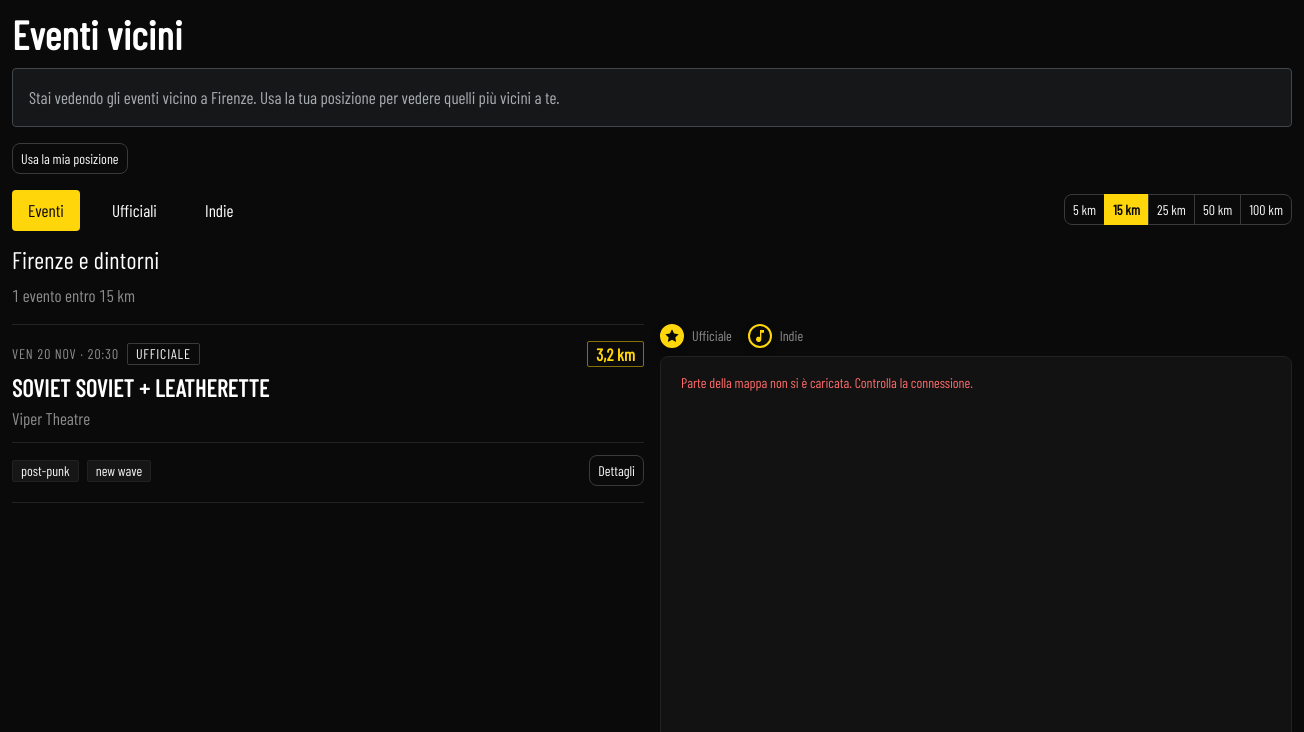
Test case: NearbyEventsPage · centro › "Usa la mia posizione" cerca dalla posizione del browser e toglie l'avviso
Check: the heading "Soviet Soviet + Leatherette" is shown, box left=12, top=373, right=269, bottom=402
Click the button "Usa la mia posizione" at x=70, y=158, box left=12, top=143, right=128, bottom=174
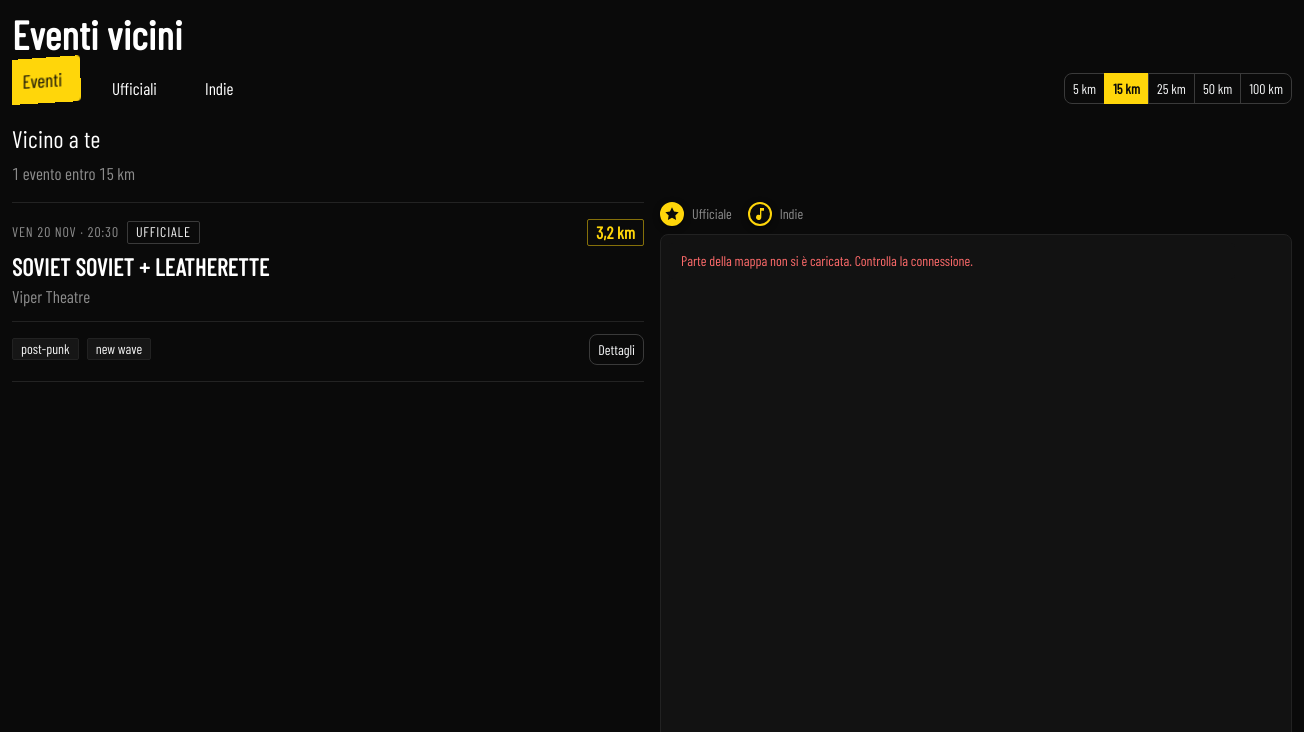
Check: the heading "Vicino a te" is shown, box left=12, top=124, right=101, bottom=153
Check: the text "Stai vedendo gli eventi vicino a Firenze" is gone
